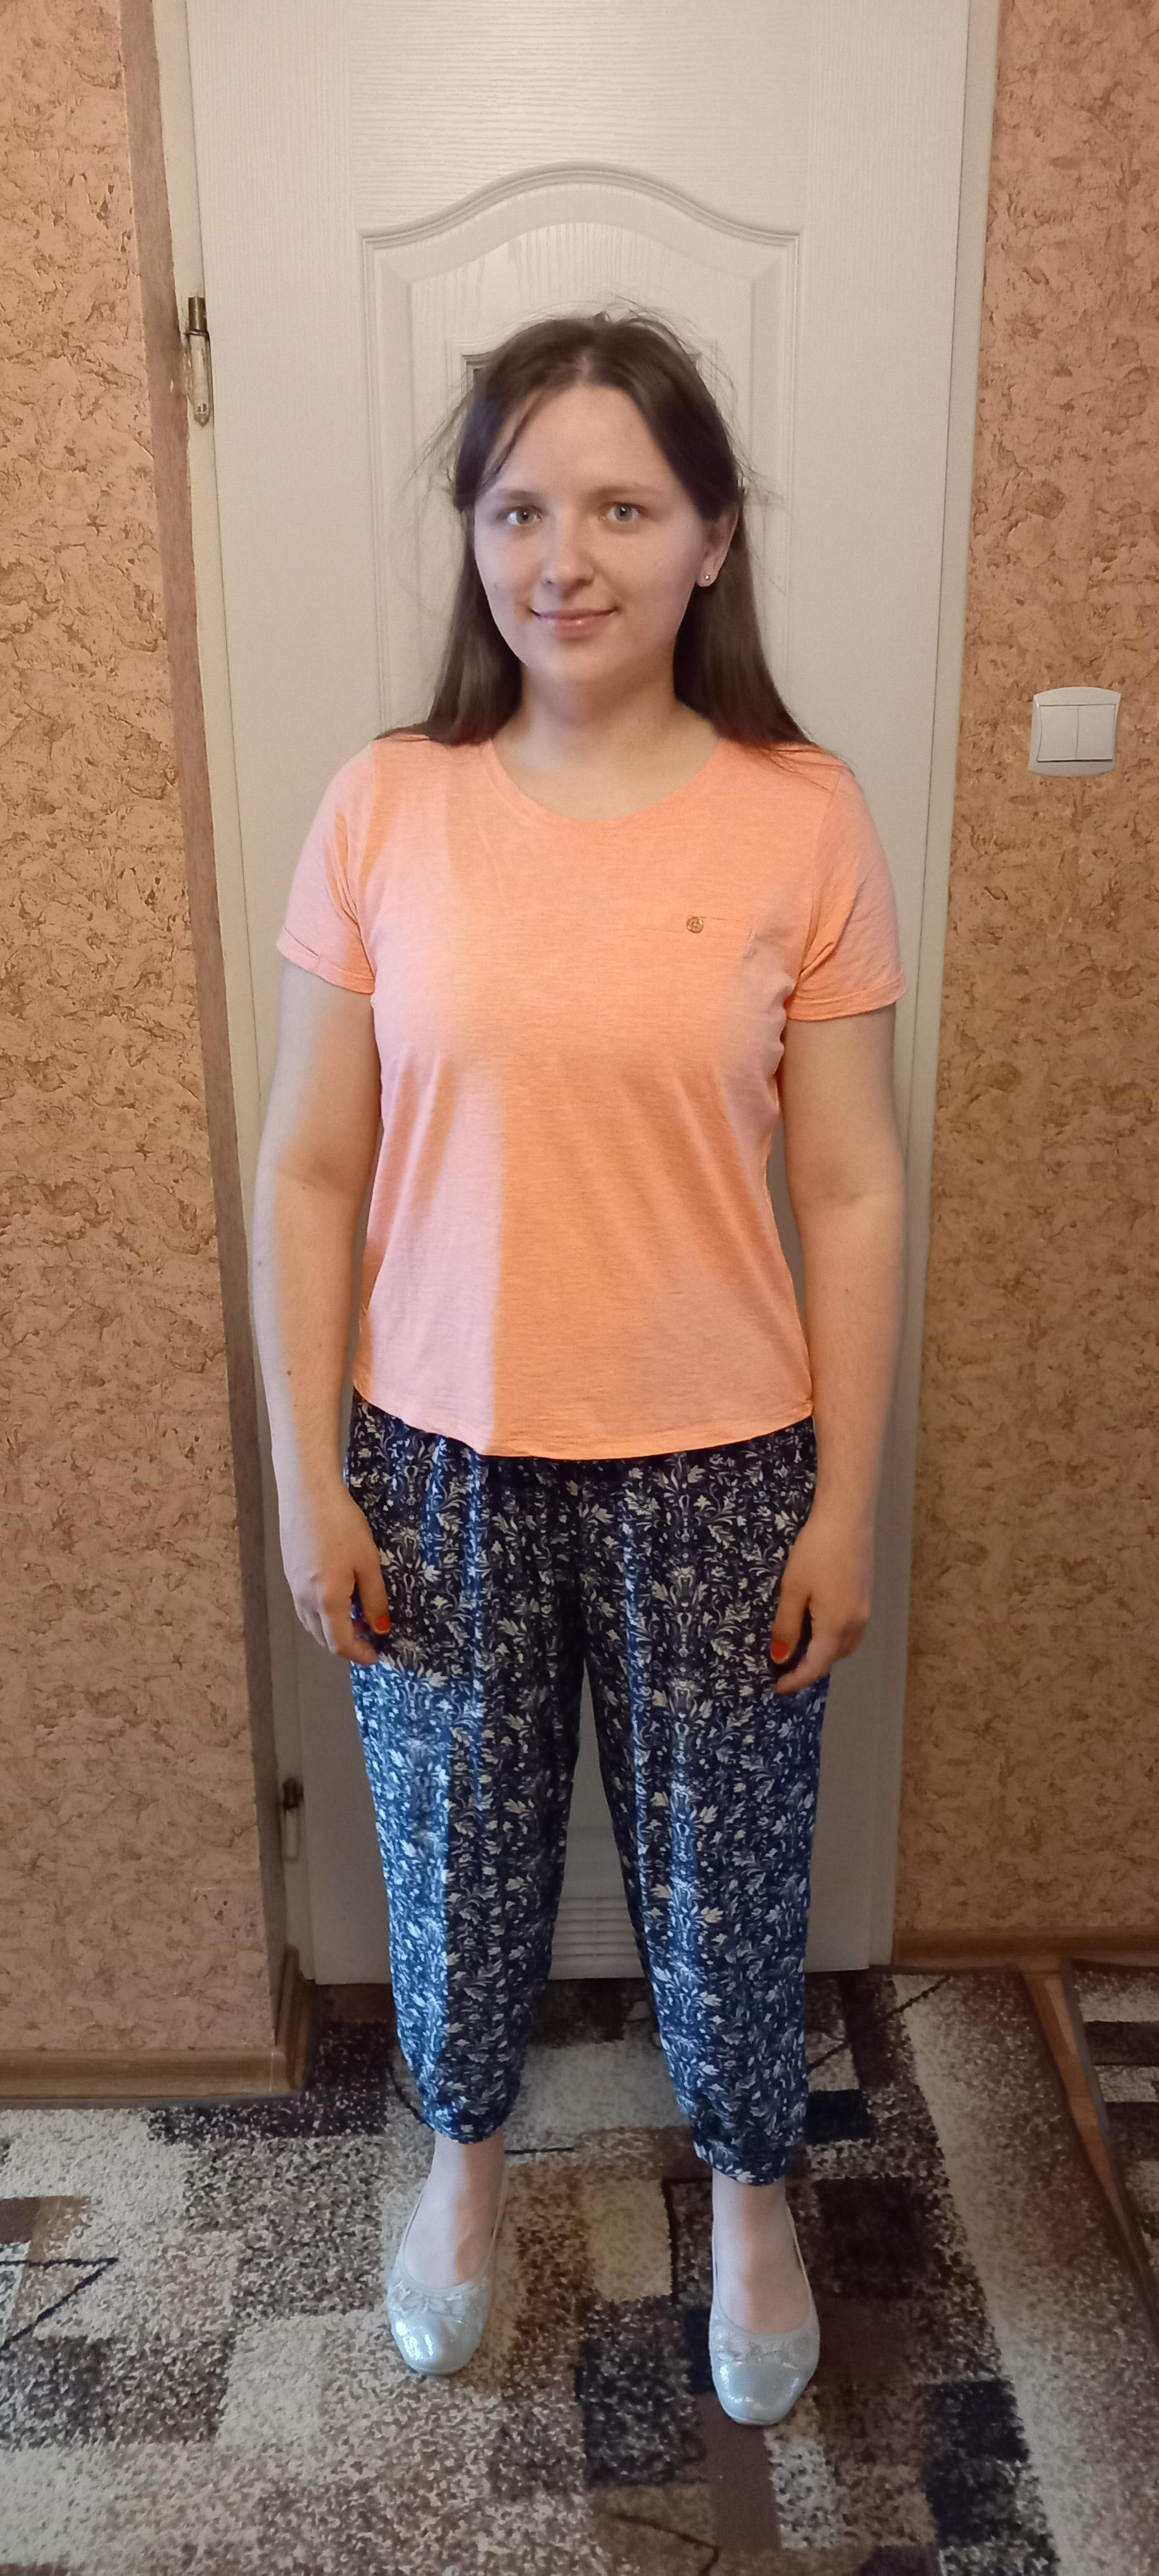Tshirt: (273, 718, 906, 1460)
pants: (340, 1387, 841, 2187)
